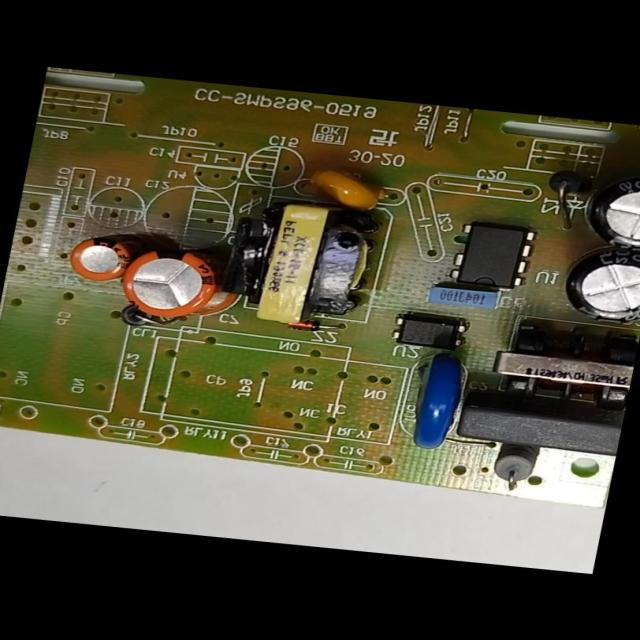Cap1: (112, 238, 242, 326)
Cap2: (63, 227, 140, 285)
Cap3: (559, 241, 639, 328)
Cap4: (574, 167, 639, 254)
MOSFET: (440, 212, 542, 294)
Mov: (400, 344, 471, 454)
Resistor: (488, 443, 548, 494)
Transformer: (227, 192, 394, 335), (482, 312, 639, 415)
